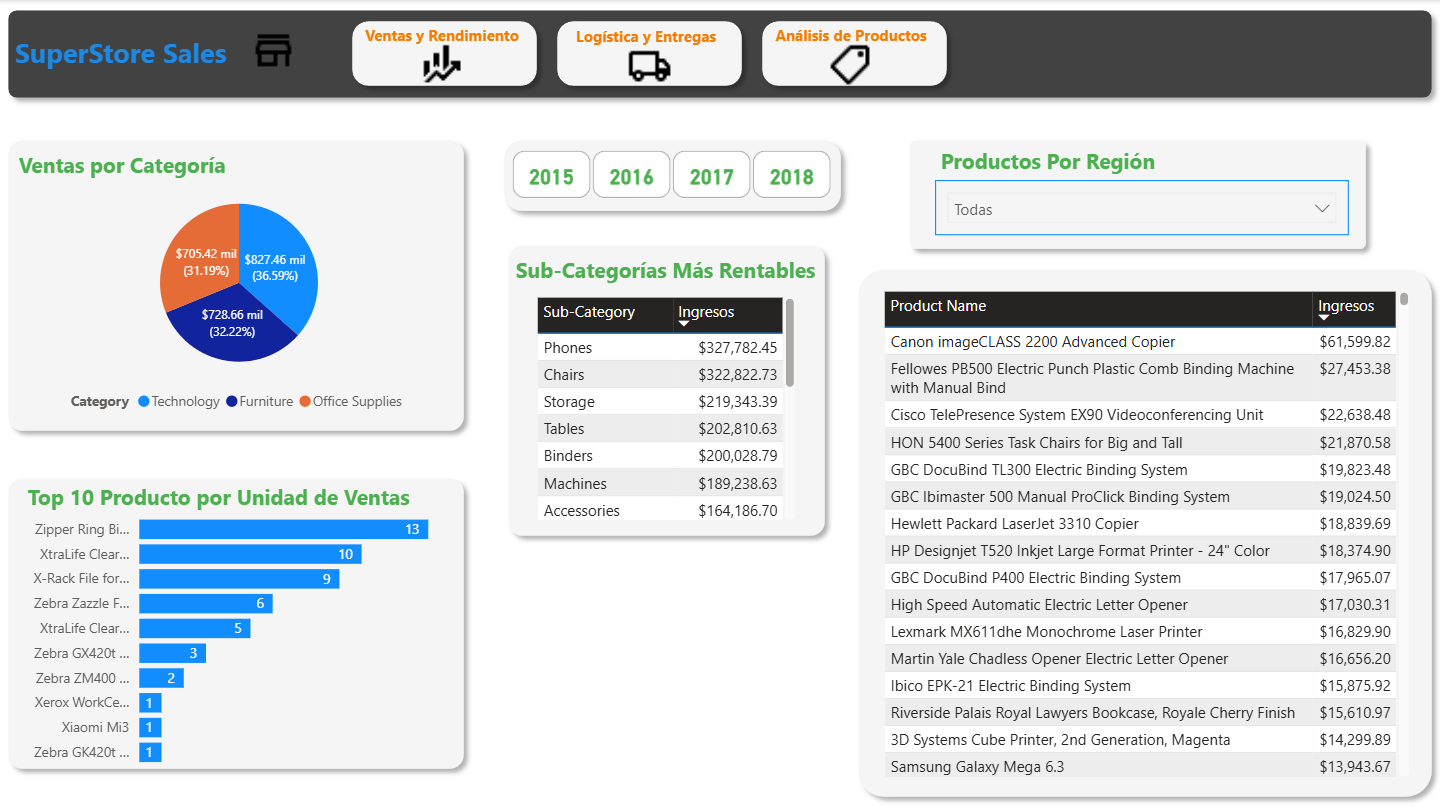

What the dashboard file says about the page in this screenshot:
{"tool":"powerbi","page":{"name":"Ventas y Rendimiento","canvas":[1280,720],"ordinal":0},"visuals":[{"type":"shape","box":[0,0,1280.4,95.8],"z":0},{"type":"textbox","box":[9.8,24.8,225.2,46.1],"z":1000},{"type":"shape","box":[0,86.9,243.8,633.1],"z":2000},{"type":"shape","box":[11.5,136.6,221.7,75.4],"z":3000},{"type":"shape","box":[243.8,95.8,516.9,314.8],"z":4000},{"type":"shape","box":[763.4,95.8,516.9,315.7],"z":5000},{"type":"shape","box":[247.1,404.6,516.5,315.1],"z":6000},{"type":"shape","box":[763.4,404.3,516.9,315.7],"z":7000},{"type":"shape","box":[11.5,211.9,221.7,75.4],"z":8000},{"type":"shape","box":[11.5,287.3,221.7,75.4],"z":9000},{"type":"shape","box":[11.5,360,221.7,75.4],"z":10000},{"type":"shape","box":[11.5,435.4,221.7,75.4],"z":11000},{"type":"shape","box":[11.5,510.7,221.7,75.4],"z":12000},{"type":"shape","box":[11.5,586.1,221.7,75.4],"z":13000},{"type":"pieChart","fields":{"Category":["store_sales_limpio.Category"],"Y":["CountNonNull(store_sales_limpio.Category)"]},"box":[267.8,435.4,472.6,273.1],"z":14000},{"type":"card","fields":{"Values":["Sum(store_sales_limpio.Sales)"]},"box":[51.6,170.2,141,27.2],"z":15000},{"type":"textbox","box":[31,145.4,107.3,29.3],"z":16000},{"type":"card","fields":{"Values":["Avg(store_sales_limpio.Sales)"]},"box":[51.4,248.3,141,27.5],"z":17000},{"type":"textbox","box":[31,224.3,148.1,29.3],"z":18000},{"type":"card","fields":{"Values":["Count(store_sales_limpio.Order ID)"]},"box":[51.6,323.9,141,28.2],"z":19000},{"type":"textbox","box":[31.1,296.7,147.8,29.2],"z":20000},{"type":"image","box":[37,168.3,42.8,32.1],"z":21000},{"type":"image","box":[38.9,242.2,42,32],"z":22000},{"type":"image","box":[41.8,319,42,32],"z":23000},{"type":"clusteredBarChart","fields":{"Y":["Sum(store_sales_limpio.Sales)"],"Category":["store_sales_limpio.Product Name"]},"box":[789.2,127.7,467.3,266.9],"z":24000},{"type":"textbox","box":[278.4,415,243.8,40.8],"z":25000},{"type":"image","box":[216.9,18.5,53.5,51.6],"z":26000},{"type":"textbox","box":[267.8,100.2,331.6,40.8],"z":27000},{"type":"textbox","box":[812.3,100.5,348,40.7],"z":28000},{"type":"shape","box":[812.2,9.7,460.1,74.9],"z":29000},{"type":"advancedSlicerVisual","fields":{"Values":["store_sales_limpio.Order Date.Variación.Jerarquía de fechas.Año"]},"box":[826.7,23.3,428.9,47.7],"z":30000},{"type":"tableEx","fields":{"Values":["store_sales_limpio.Country","store_sales_limpio.Region","store_sales_limpio.State","store_sales_limpio.City","Sum(store_sales_limpio.Sales)"]},"box":[788.8,448.4,466.9,260.7],"z":31000},{"type":"textbox","box":[812.2,415.3,331.7,40.9],"z":32000},{"type":"lineChart","fields":{"Category":["store_sales_limpio.Order Date.Variación.Jerarquía de fechas.Mes"],"Y":["Sum(store_sales_limpio.Sales)"]},"box":[267.8,141,472.6,253.6],"z":33000},{"type":"textbox","box":[17.7,371.5,208.4,31.9],"z":34000},{"type":"card","fields":{"Values":["store_sales_limpio.Average Difference in Days"]},"box":[96.7,394.6,50.5,31],"z":35000},{"type":"image","box":[41.7,392.8,42,32.8],"z":36000}]}

Visuals, with their boxes in screenshot pixels (x1, y1, x2, y2), scaled from the page's 1280x720 canvas onto the 1440x808 screenshot:
shape: locate(0, 0, 1439, 108)
textbox: locate(11, 28, 264, 80)
shape: locate(0, 98, 274, 807)
shape: locate(13, 153, 262, 238)
shape: locate(274, 108, 856, 461)
shape: locate(859, 108, 1439, 462)
shape: locate(278, 454, 859, 807)
shape: locate(859, 454, 1439, 807)
shape: locate(13, 238, 262, 322)
shape: locate(13, 322, 262, 407)
shape: locate(13, 404, 262, 489)
shape: locate(13, 489, 262, 573)
shape: locate(13, 573, 262, 658)
shape: locate(13, 658, 262, 742)
pieChart - store_sales_limpio.Category x CountNonNull(store_sales_limpio.Category): locate(301, 489, 833, 795)
card - Sum(store_sales_limpio.Sales): locate(58, 191, 217, 222)
textbox: locate(35, 163, 156, 196)
card - Avg(store_sales_limpio.Sales): locate(58, 279, 216, 310)
textbox: locate(35, 252, 201, 285)
card - Count(store_sales_limpio.Order ID): locate(58, 363, 217, 395)
textbox: locate(35, 333, 201, 366)
image: locate(42, 189, 90, 225)
image: locate(44, 272, 91, 308)
image: locate(47, 358, 94, 394)
clusteredBarChart - Sum(store_sales_limpio.Sales) x store_sales_limpio.Product Name: locate(888, 143, 1414, 443)
textbox: locate(313, 466, 587, 512)
image: locate(244, 21, 304, 79)
textbox: locate(301, 112, 674, 158)
textbox: locate(914, 113, 1305, 158)
shape: locate(914, 11, 1431, 95)
advancedSlicerVisual - store_sales_limpio.Order Date.Variación.Jerarquía de fechas.Año: locate(930, 26, 1413, 80)
tableEx - store_sales_limpio.Country x store_sales_limpio.Region: locate(887, 503, 1413, 796)
textbox: locate(914, 466, 1287, 512)
lineChart - store_sales_limpio.Order Date.Variación.Jerarquía de fechas.Mes x Sum(store_sales_limpio.Sales): locate(301, 158, 833, 443)
textbox: locate(20, 417, 254, 453)
card - store_sales_limpio.Average Difference in Days: locate(109, 443, 166, 478)
image: locate(47, 441, 94, 478)
